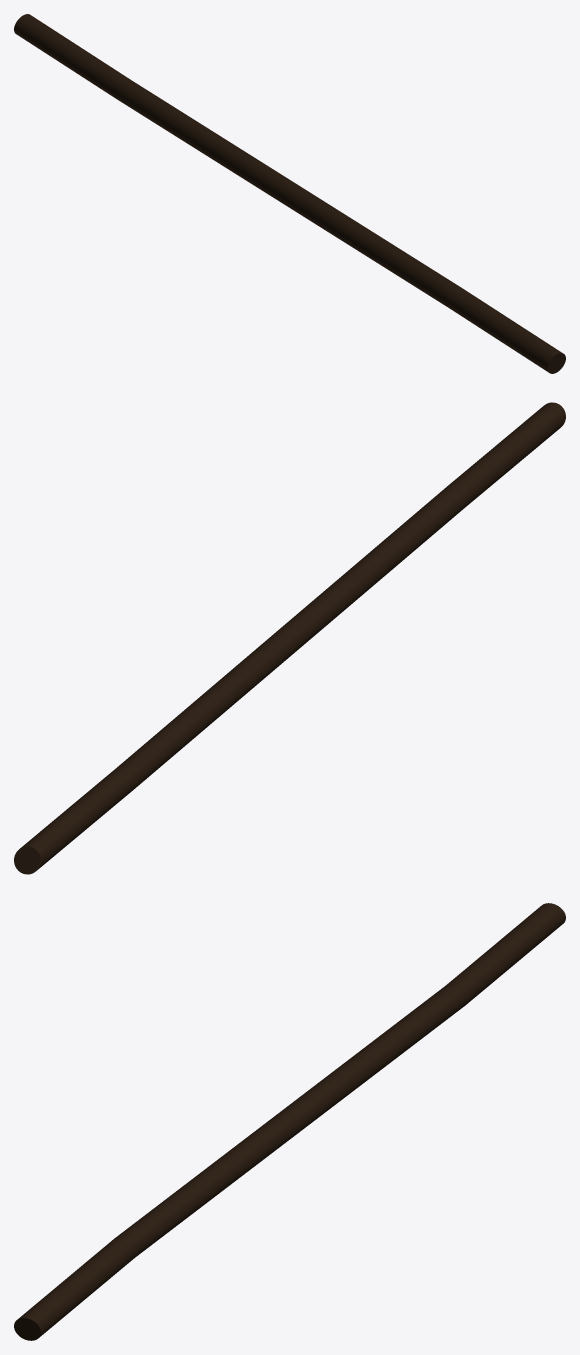
Rendered from circle.148_lev3.glb.
3 views of the same model, one above another, from view 1: azimuth 30°, elevation 25°; view 2: azimuth 150°, elevation 25°; view 3: azimuth 330°, elevation 25° (orthographic). The views are drawn at different scales.
Parts seen in each view (by area): view 1: circle.148_lev3; view 2: circle.148_lev3; view 3: circle.148_lev3.
Boxes of the visible parts, x1,y1,x2,y2 form: circle.148_lev3: [14, 14, 565, 373]; circle.148_lev3: [14, 402, 565, 874]; circle.148_lev3: [14, 903, 565, 1340].
Bounding box in the file's own units: 0.1586 × 0.0863 × 2.26.
1 material, 1 textured.
